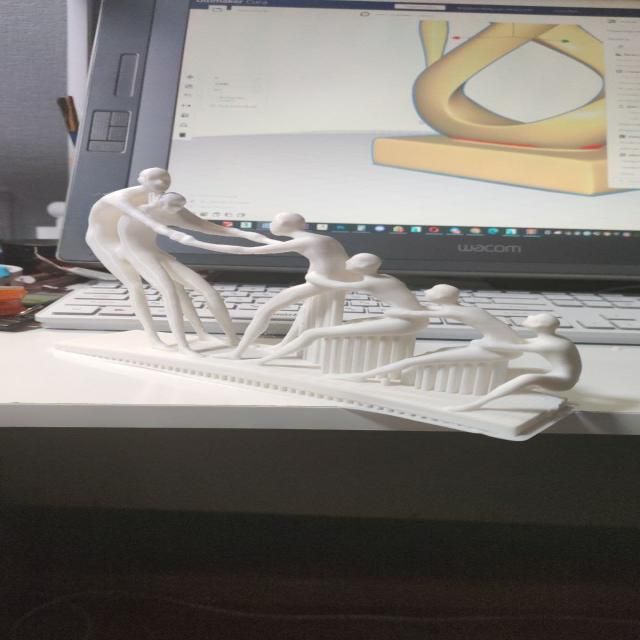Without deffect: (51, 158, 594, 461)
